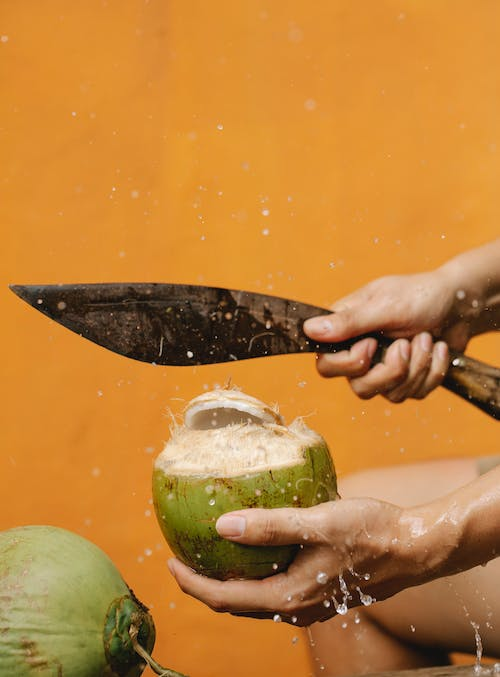knife: (6, 280, 500, 422)
